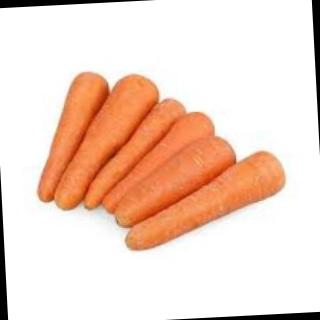Wortel: (118, 149, 290, 253), (47, 73, 166, 213), (110, 134, 243, 231), (32, 71, 114, 204)
